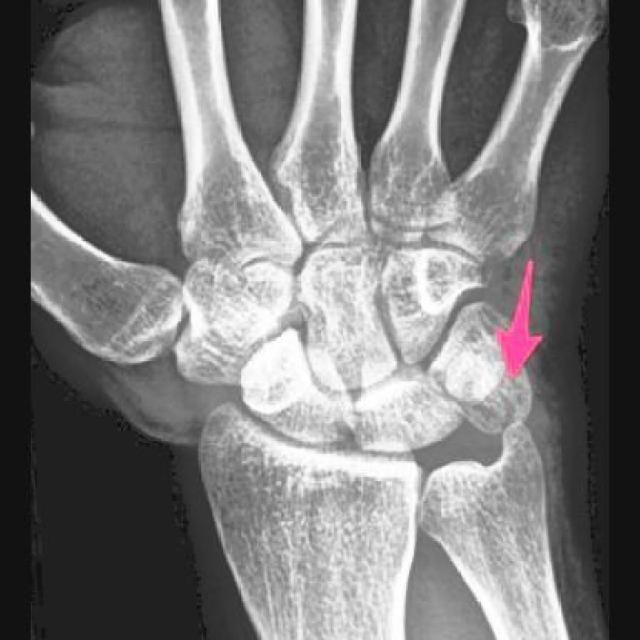Fracture: (433, 326, 539, 439)
